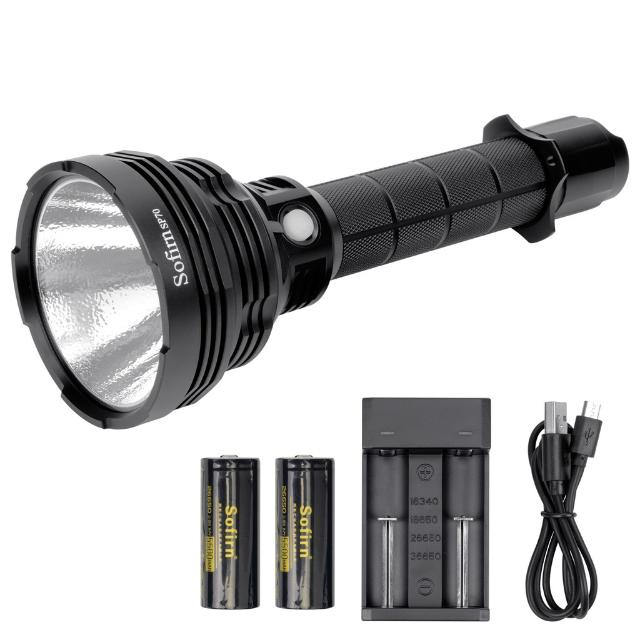Flashlight: (0, 103, 640, 437)
